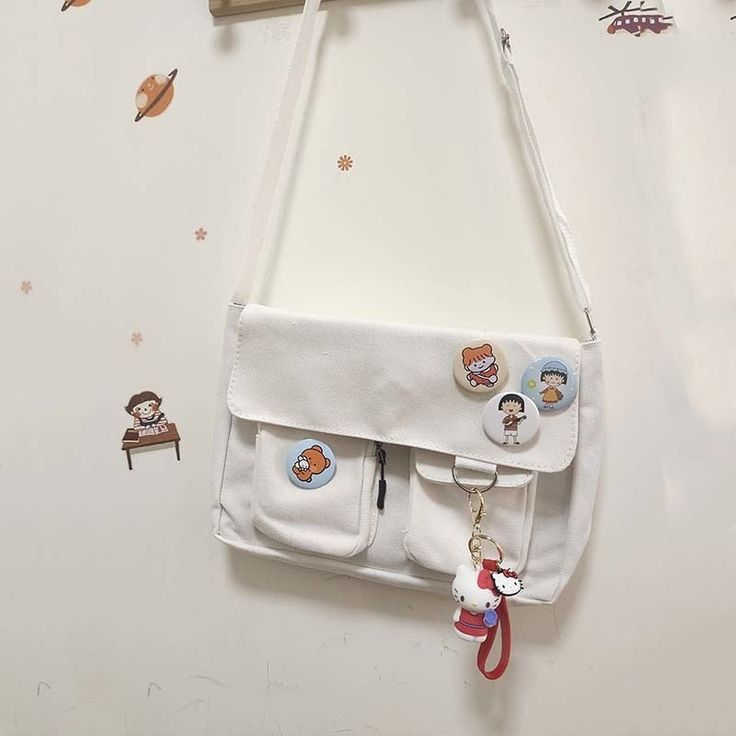nylon: (211, 301, 603, 606)
